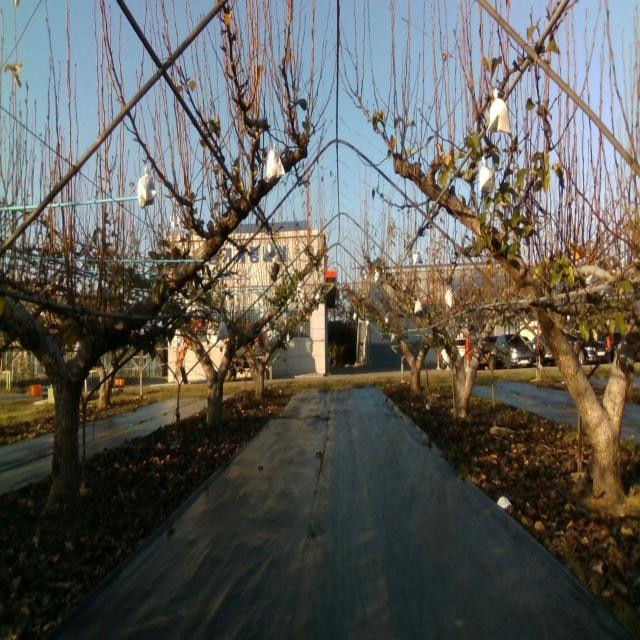pearbags: (484, 88, 513, 139), (138, 168, 156, 210), (480, 155, 497, 196), (266, 144, 285, 179), (264, 238, 277, 261), (216, 318, 228, 341)
